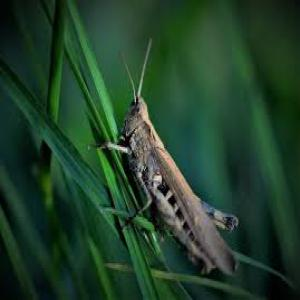locust: (104, 76, 250, 244)
